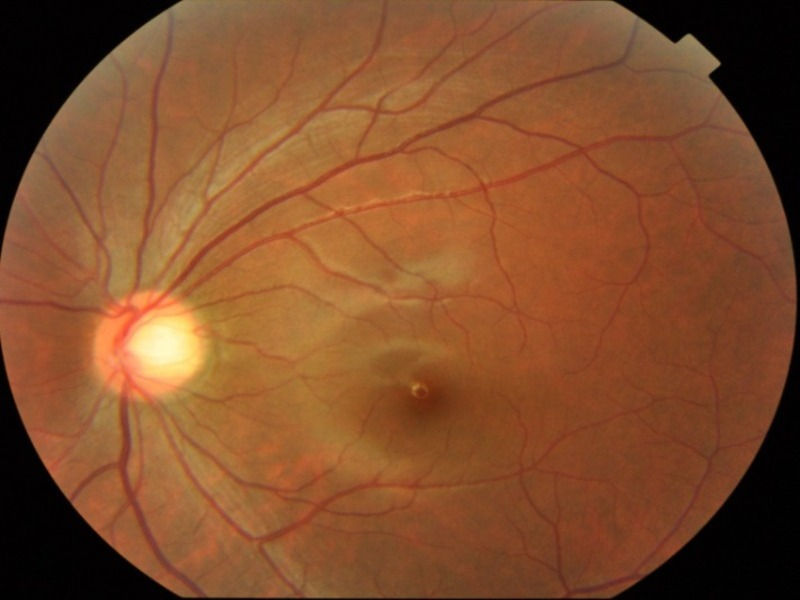Optic Cup: (132, 321, 200, 369)
Optic Disc: (92, 289, 203, 397)
